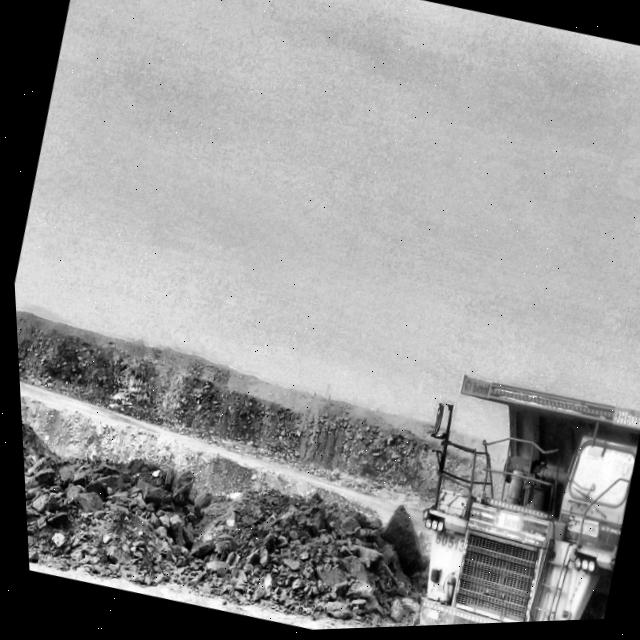dump_truck: (413, 380, 639, 629)
